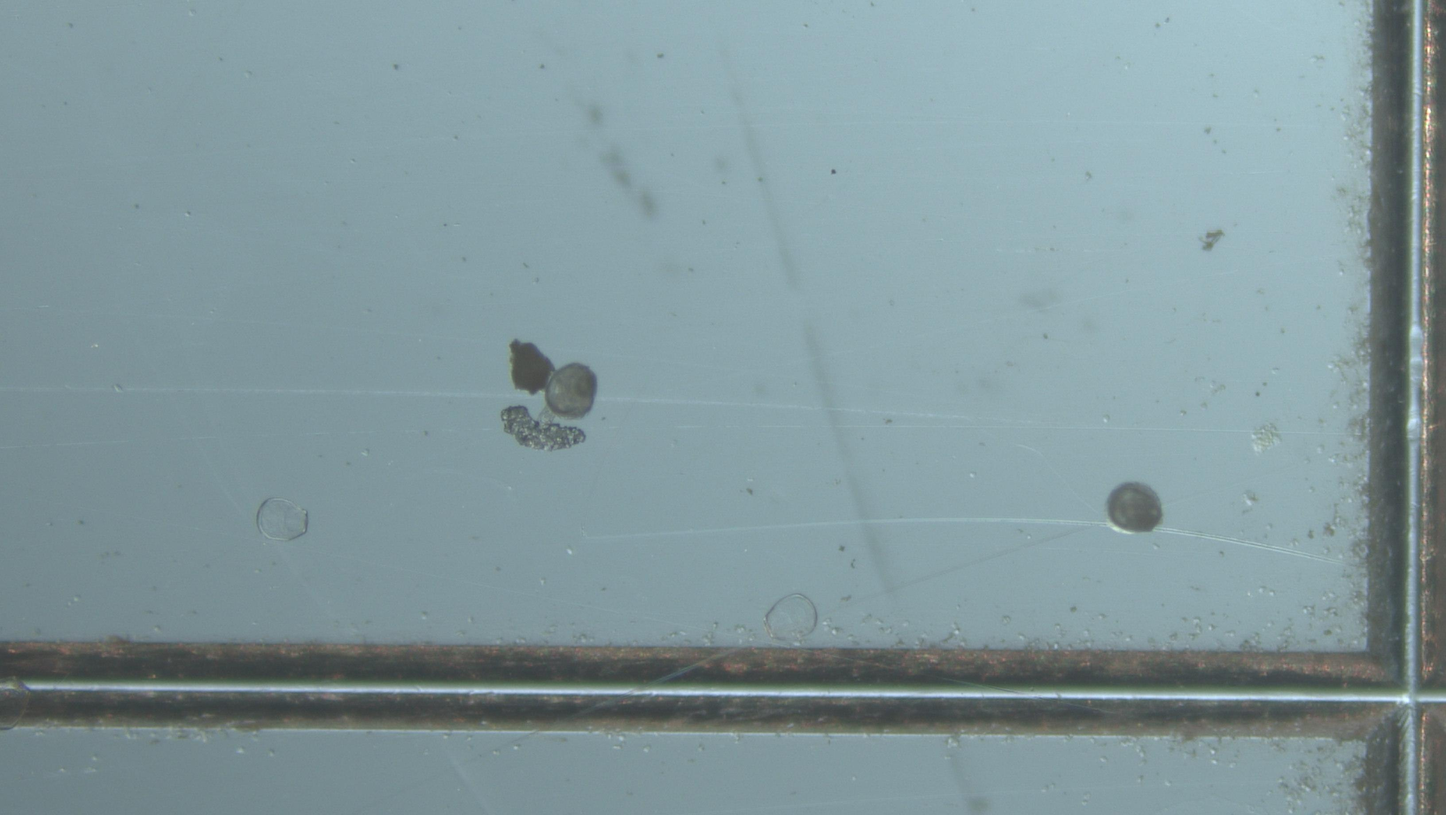dead: (764, 594, 818, 642), (257, 498, 309, 541)
live: (539, 363, 597, 419), (1105, 482, 1163, 534), (517, 358, 539, 392), (512, 341, 536, 352)
